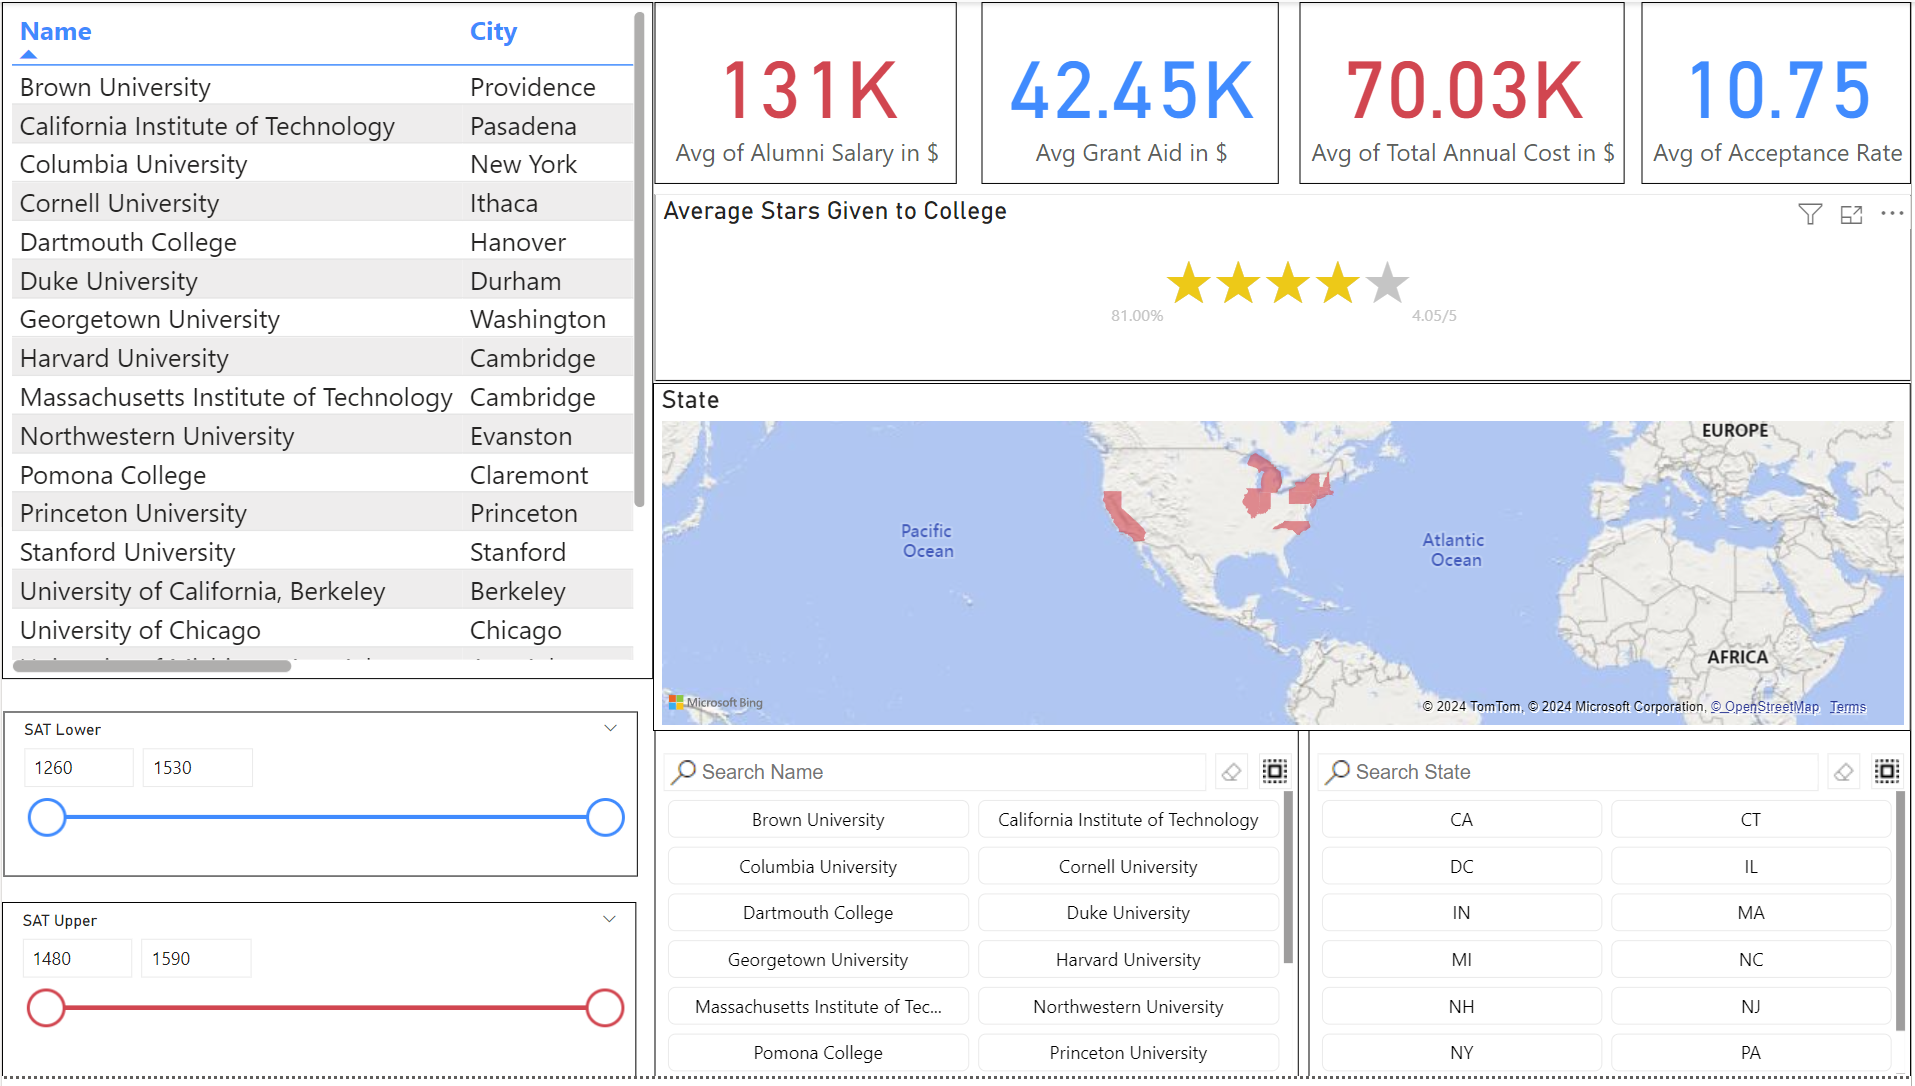

Layout of this report page (visuals, bound fields, positions):
{"tool":"powerbi","page":{"name":"University Ranking Dashboard","canvas":[1280,720],"ordinal":0},"visuals":[{"type":"slicer","fields":{"Values":["Sheet1.SAT Lower"]},"box":[1.1,475.5,425.3,110.5],"z":0},{"type":"slicer","fields":{"Values":["Sheet1.SAT Upper"]},"box":[0,603.1,425.5,117.3],"z":1000},{"type":"tableEx","fields":{"Values":["Sheet1.Name","Sheet1.City","Sum(Sheet1.SAT Lower)","Sum(Sheet1.SAT Upper)","Sheet1.Public/Private","Sheet1.Website"]},"box":[0,0,436.5,454.3],"z":2000},{"type":"card","fields":{"Values":["Avg(Sheet1.Alumni Salary)"]},"box":[437.3,0,202.7,122.3],"z":3000},{"type":"card","fields":{"Values":["Avg(Sheet1.Total Annual Cost)"]},"box":[869.5,0,217.8,122.3],"z":4000},{"type":"card","fields":{"Values":["Avg(Sheet1.Average Grant Aid)"]},"box":[656.8,0,199.4,122.3],"z":5000},{"type":"card","fields":{"Values":["Avg(Sheet1.Acceptance Rate)"]},"box":[1099.1,0,180.9,122.3],"z":6000},{"type":"Slicer1448559807355","fields":{"Category":["Sheet1.Name"]},"box":[437.3,487.5,432.3,236.2],"z":7000},{"type":"Slicer1448559807355","fields":{"Category":["Sheet1.State"]},"box":[876.2,487.5,403.8,234.6],"z":8000},{"type":"ratingsvisual001","fields":{"measure":["Avg(Sheet1 (2).Stars)"]},"box":[437.3,129,842.7,125.7],"z":9000},{"type":"filledMap","fields":{"Category":["Sheet1.State"]},"box":[437,255,843,233],"z":10000}]}

Visuals, with their boxes in screenshot pixels (x1, y1, x2, y2), scaled from the page's 1280x720 canvas onto the 1915x1086 screenshot:
slicer - Sheet1.SAT Lower: detection(2, 717, 638, 884)
slicer - Sheet1.SAT Upper: detection(0, 910, 637, 1085)
tableEx - Sheet1.Name x Sheet1.City: detection(0, 0, 653, 685)
card - Avg(Sheet1.Alumni Salary): detection(654, 0, 958, 184)
card - Avg(Sheet1.Total Annual Cost): detection(1301, 0, 1627, 184)
card - Avg(Sheet1.Average Grant Aid): detection(983, 0, 1281, 184)
card - Avg(Sheet1.Acceptance Rate): detection(1644, 0, 1914, 184)
Slicer1448559807355 - Sheet1.Name: detection(654, 735, 1301, 1085)
Slicer1448559807355 - Sheet1.State: detection(1311, 735, 1914, 1085)
ratingsvisual001 - Avg(Sheet1 (2).Stars): detection(654, 195, 1914, 384)
filledMap - Sheet1.State: detection(654, 385, 1914, 736)
